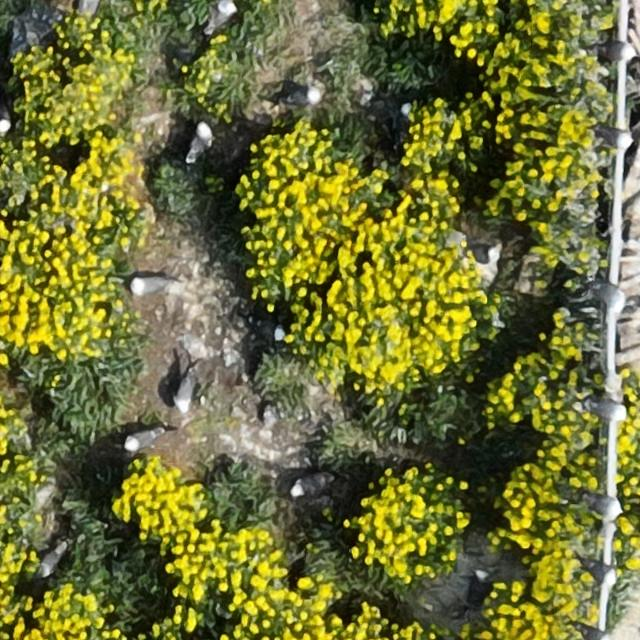umineko: (172, 371, 196, 415), (589, 282, 631, 306), (582, 398, 628, 418), (208, 2, 238, 30), (583, 496, 621, 518), (188, 124, 211, 160), (599, 42, 637, 62), (40, 544, 65, 574), (594, 127, 633, 146), (125, 429, 157, 452), (466, 245, 500, 266), (291, 475, 326, 495), (285, 87, 321, 105), (130, 276, 165, 294), (582, 561, 615, 580), (577, 626, 610, 640), (397, 103, 412, 132), (77, 0, 100, 13), (0, 100, 8, 132)
